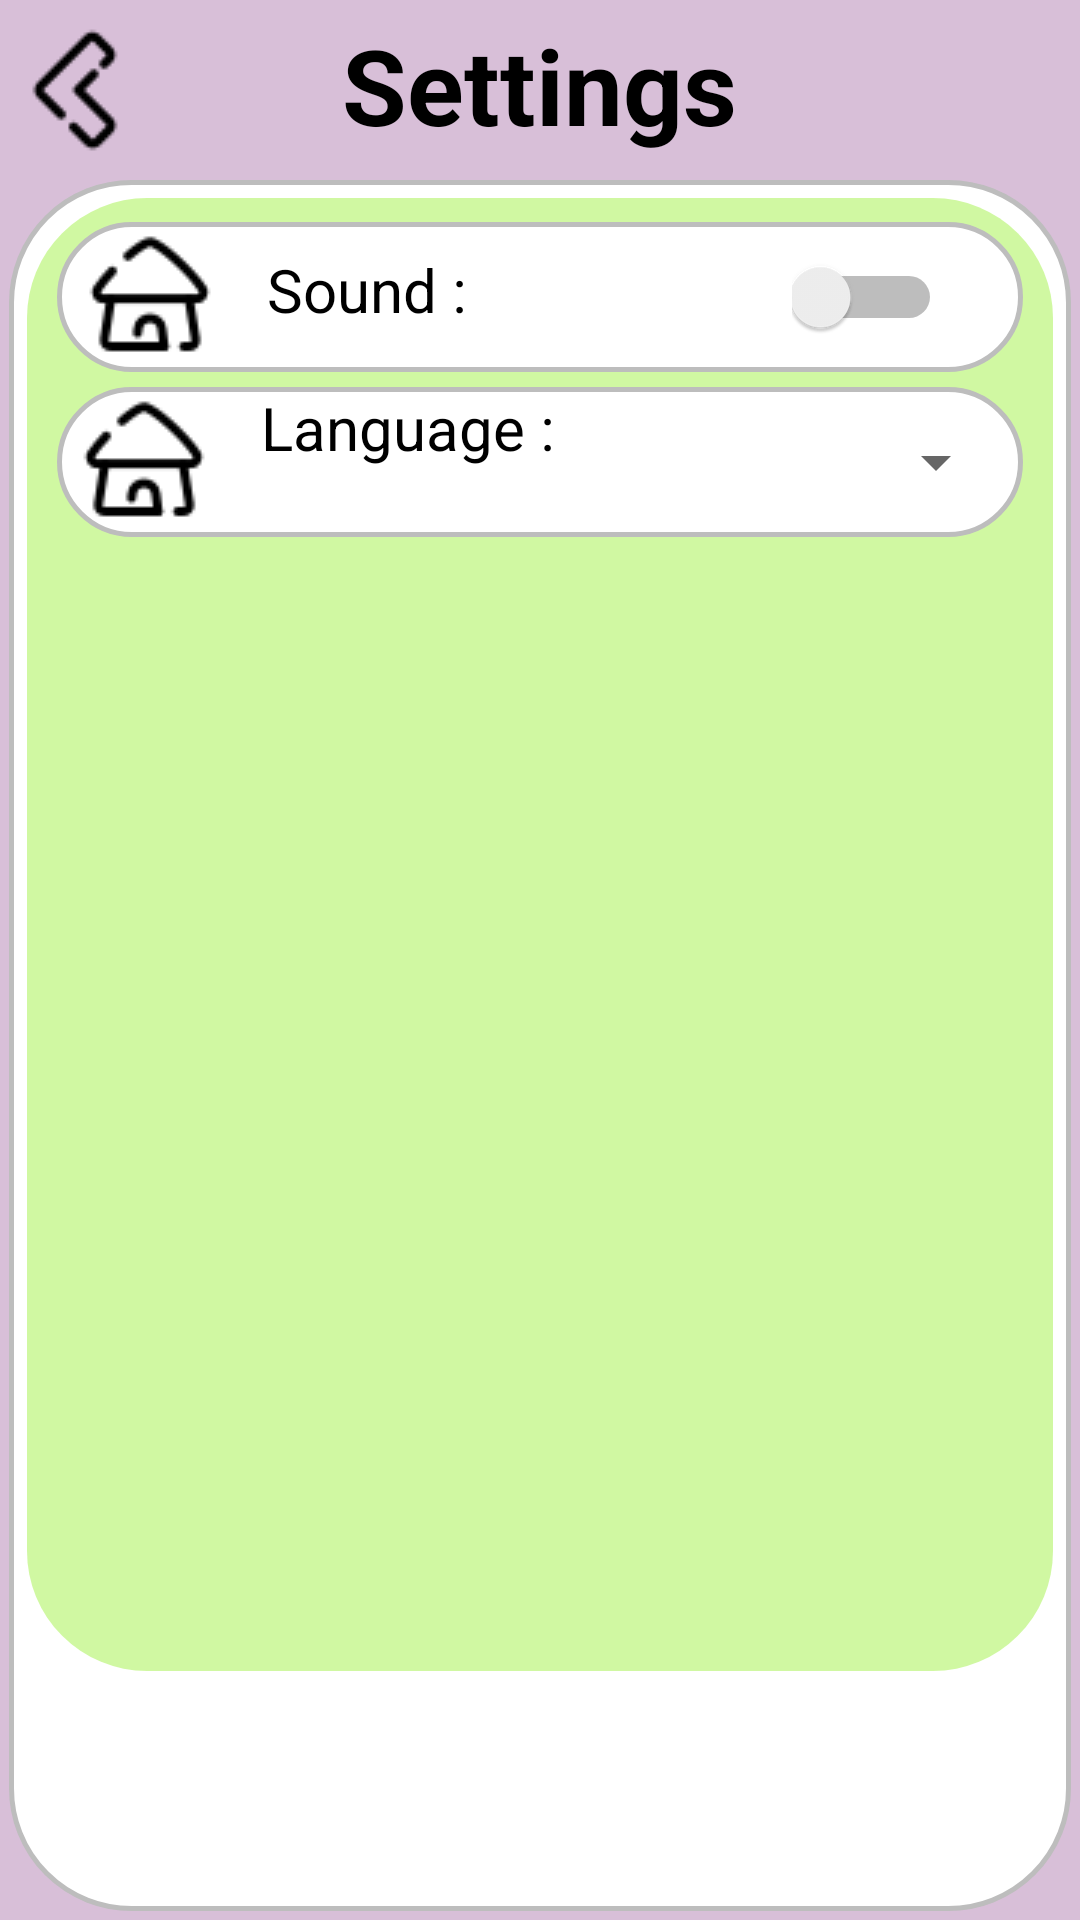

Screen size 1080x1920. Icon name, then its center in pixels as point (x, y):
back: point (75, 90)
home: point (150, 294), point (144, 459)
